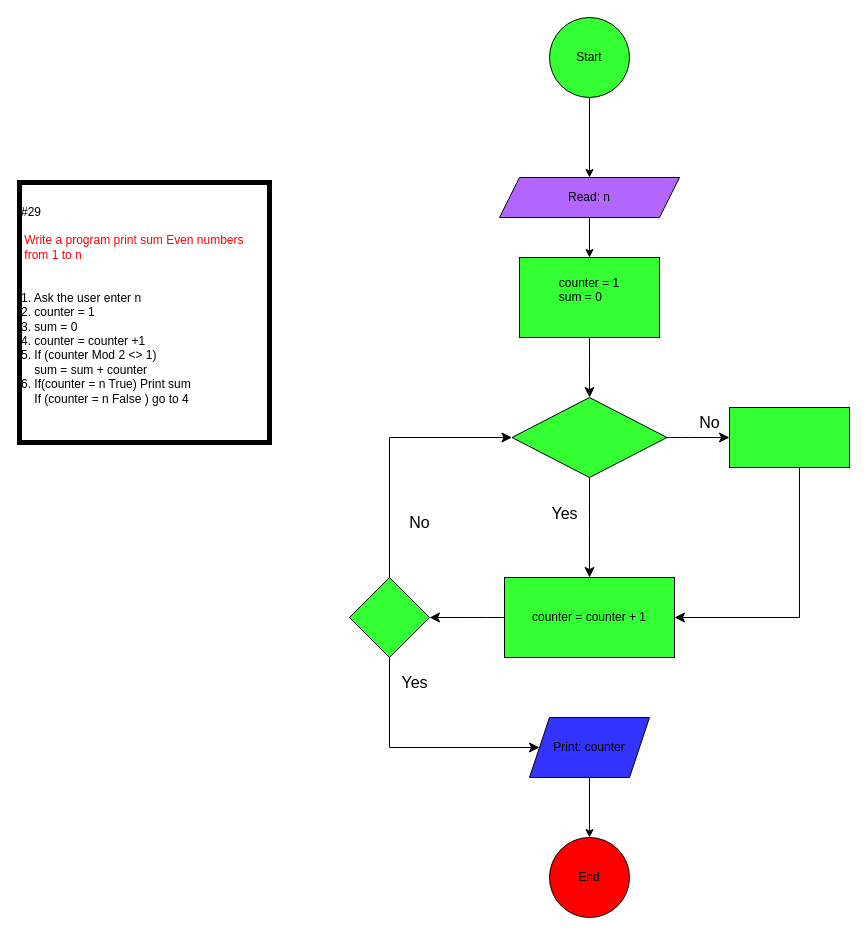
The diagram is 867 pixels wide and 935 high, and some of its shapes have lost their labels. Each missing label, with the centre of its shape:
"If (counter = n) True" goes at (x=389, y=617).
"If (counter Mod 2 <> 1)" goes at (x=589, y=437).
"sum = sum + counter" goes at (x=789, y=437).
